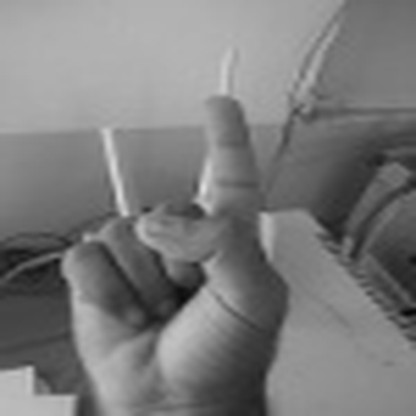d: (59, 93, 294, 398)
